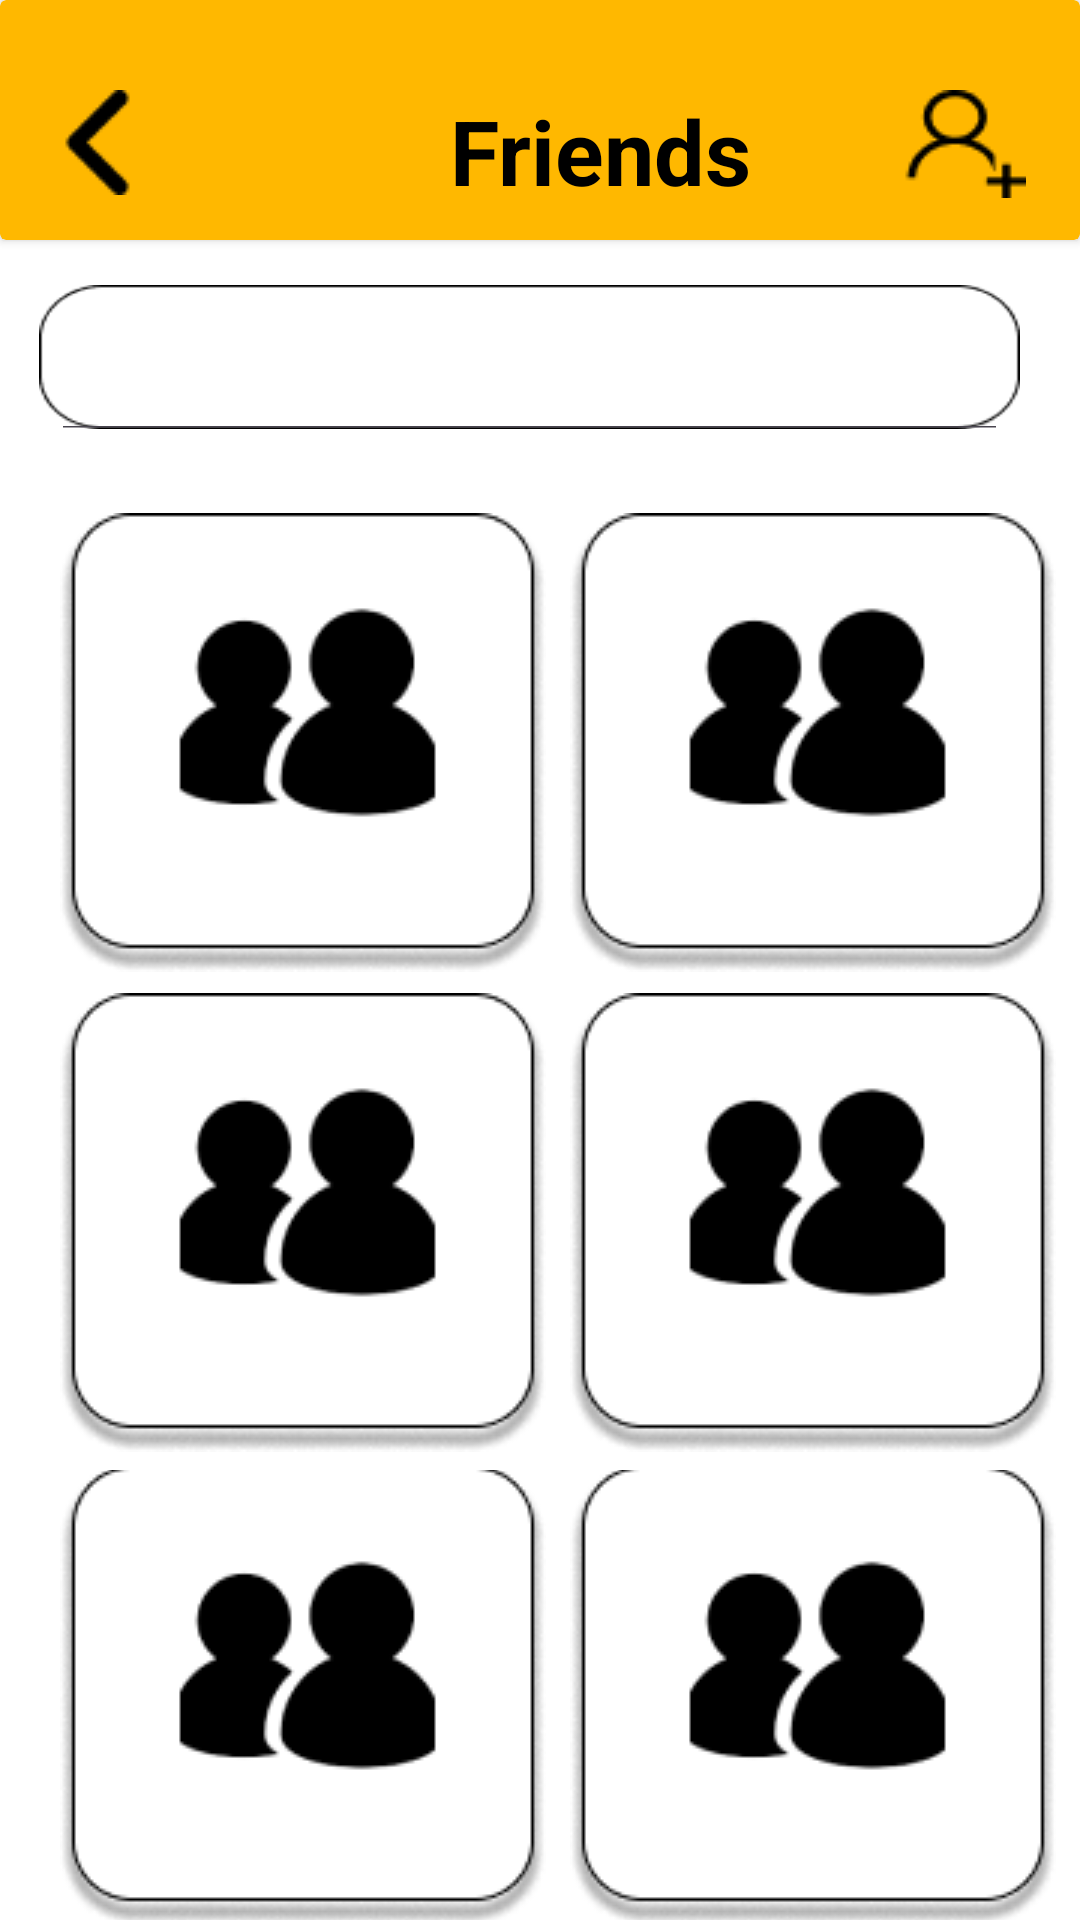

Icons on this 1080*1920 Android screen, each with its box as (x1, y1, x2, y2):
addfriend: (905, 90, 1026, 198)
backicon: (65, 90, 130, 195)
